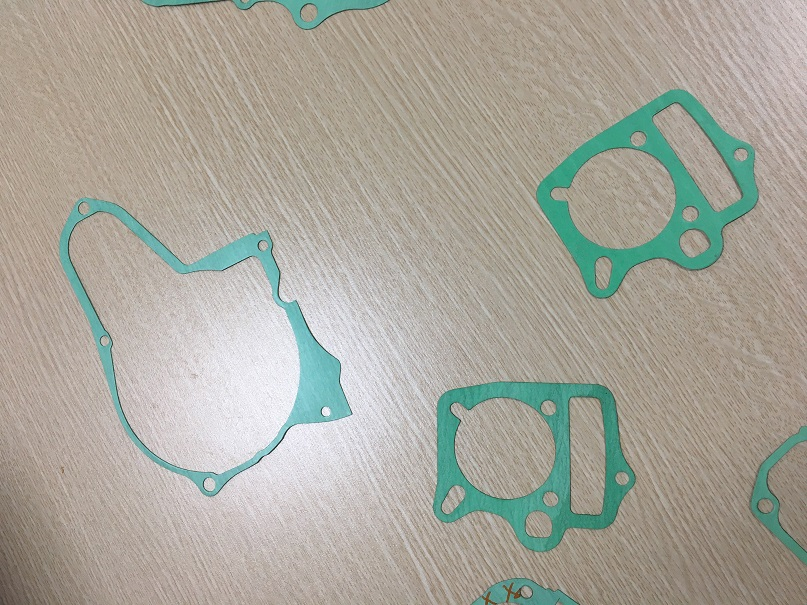type1: (45, 183, 369, 501)
type4: (537, 86, 768, 304), (423, 370, 646, 557)
